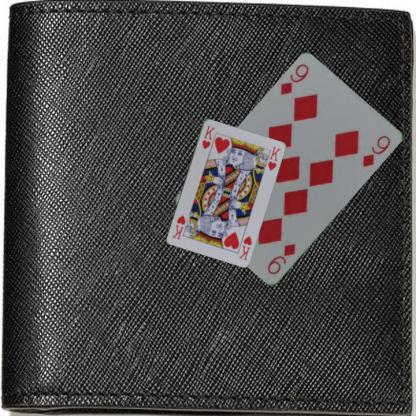9d: (264, 241, 298, 276), (277, 61, 310, 97)
Kh: (236, 233, 253, 261), (199, 123, 216, 150)
